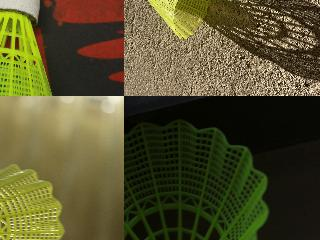shuttlecock: (124, 122, 268, 239), (0, 0, 63, 95), (0, 164, 65, 239), (130, 0, 212, 40)
